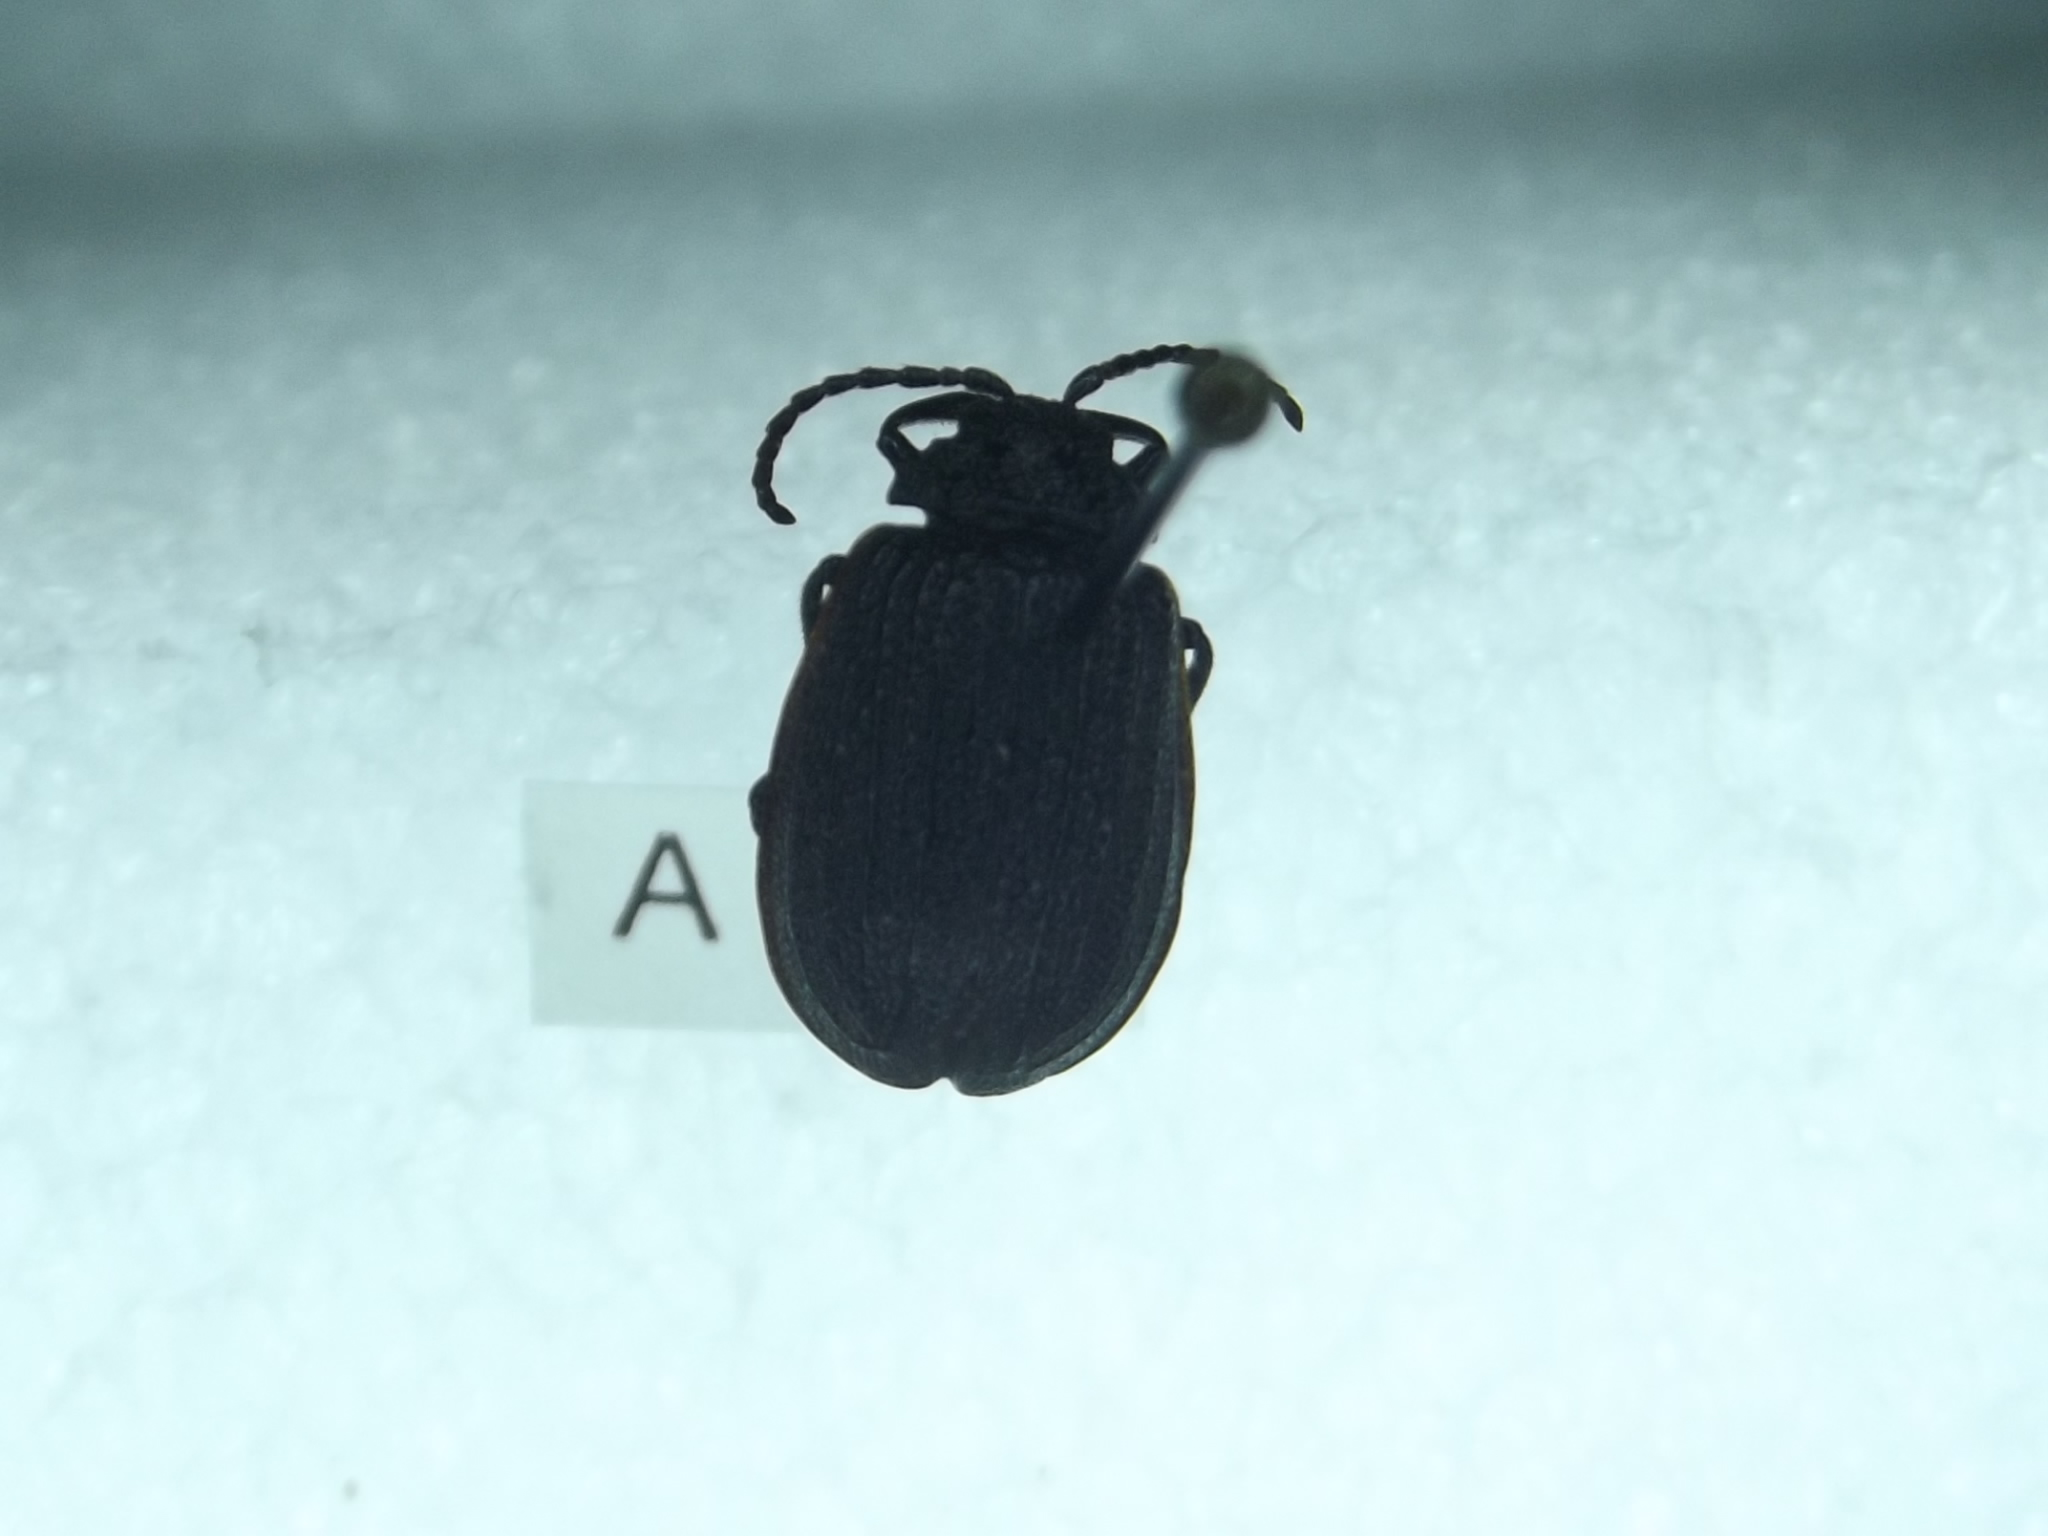Galeruca_tanaceti: (745, 323, 1322, 1104)
